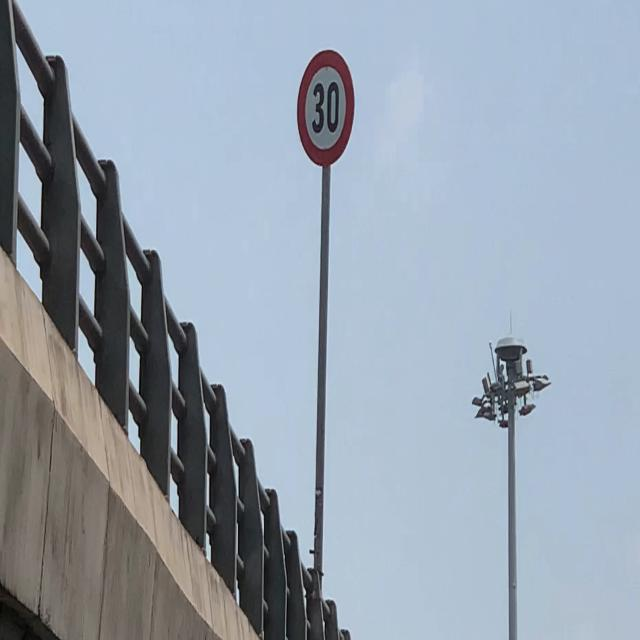Toc do toi da: (294, 47, 358, 174)
